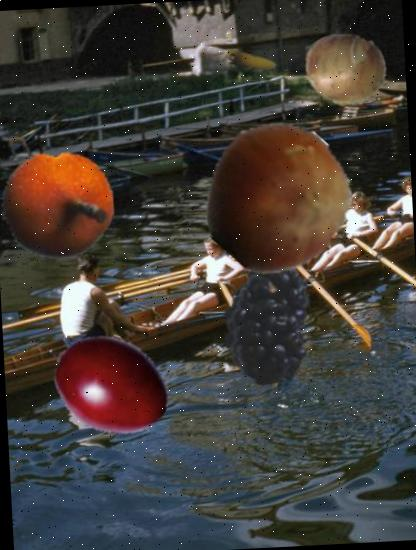Banana: (224, 33, 280, 89)
Granadilla: (0, 145, 117, 264)
Mulberry: (204, 259, 332, 387)
Nut: (199, 119, 356, 276)
Onion: (302, 25, 390, 114)
Tamarillo: (38, 314, 176, 452)
